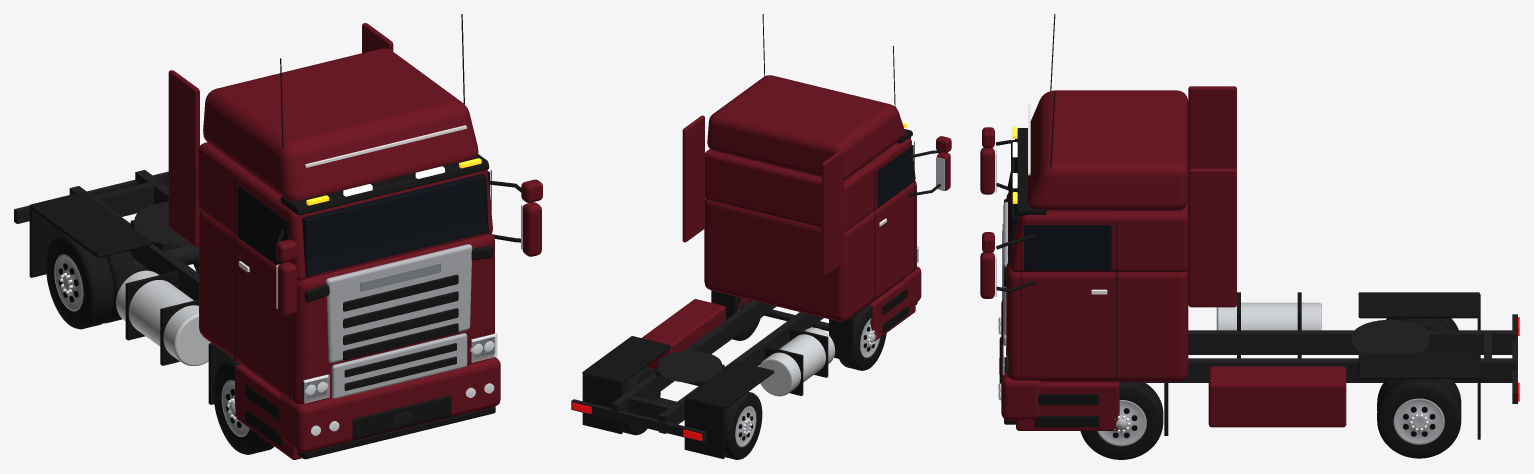
The model's file is truck.glb.
The picture shows the model from 3 angles, left to right: view 1: azimuth 30°, elevation 25°; view 2: azimuth 150°, elevation 25°; view 3: azimuth 270°, elevation 25°; orthographic projection. The views are drawn at different scales.
Visible parts, largest first — view 1: roof, cab_low, windshield, bumper, grille, cab_mid, deflector-1, tank, fender-1, wr-1_tire1, grille_low, visor (+31 smaller); view 2: cab_low, roof, cab_mid, tank, deflector-1, deflector1, rail1, sidebox, fender-1, fender1, flap-1, rail-1 (+16 smaller); view 3: cab_low, roof, sidebox, deflector1, cab_mid, rail-1, deflector-1, sidewin1, wr1_tire1, fender1, fender-1, rail1 (+13 smaller).
Part boxes in pixels (x1,y1,x2,y2): roof: (203,48,478,200); cab_low: (199,210,494,403); windshield: (302,174,488,277); bumper: (279,356,500,453); grille: (326,244,472,362); cab_mid: (198,142,492,280); deflector-1: (168,70,199,246); tank: (116,270,210,365); fender-1: (29,192,152,258); wr-1_tire1: (46,234,114,329); grille_low: (331,333,467,398); visor: (280,154,489,215); cab_low: (704,180,916,321); roof: (707,75,904,180); cab_mid: (705,138,915,232); tank: (759,327,835,396); deflector-1: (821,149,843,276); deflector1: (682,115,704,242); rail1: (611,300,776,422); sidebox: (641,299,725,370); fender-1: (685,361,774,408); fender1: (582,336,670,382); flap-1: (684,398,724,458); rail-1: (658,312,823,433); cab_low: (1006,193,1188,381); roof: (1027,90,1188,210); sidebox: (1208,366,1346,427); deflector1: (1188,168,1236,307); cab_mid: (1010,200,1188,272); rail-1: (1188,330,1516,354); deflector-1: (1188,86,1236,170); sidewin1: (1024,225,1111,270); wr1_tire1: (1377,379,1461,458); fender1: (1358,353,1479,379); fender-1: (1358,292,1479,318); rail1: (1144,358,1516,382).
Bounding box in the file's own units: 3.28 × 5 × 6.66.
